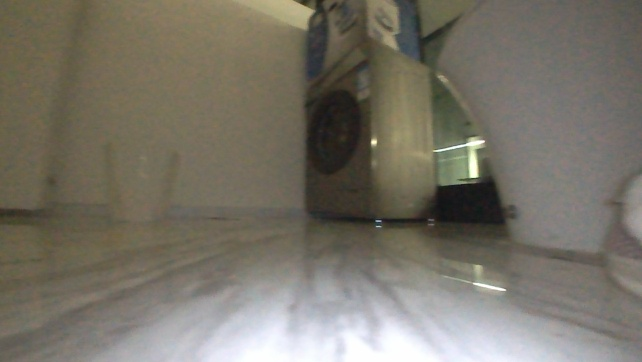toilet: (428, 0, 641, 260)
trash_can: (98, 131, 183, 225)
washing_machine: (296, 35, 441, 228)
